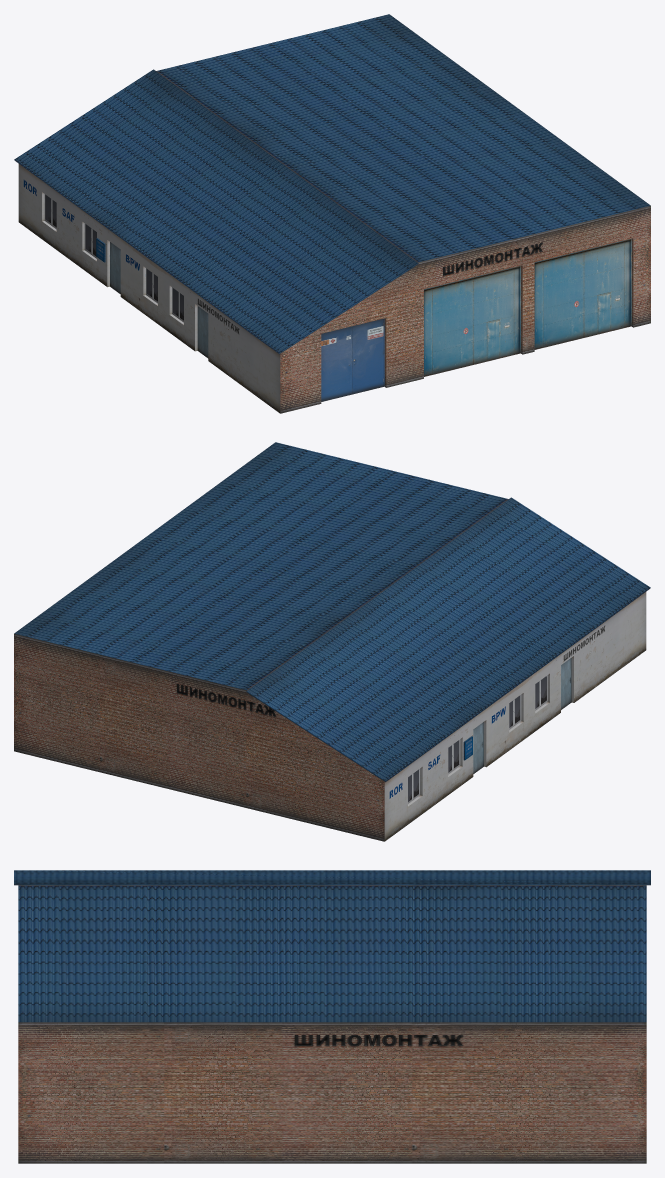
File: e30_shinomontaz2.FBX
3 renders of one model, top to bottom at view 1: azimuth 30°, elevation 25°; view 2: azimuth 150°, elevation 25°; view 3: azimuth 270°, elevation 25°, orthographic. The views are drawn at different scales.
Parts seen in each view (by area): view 1: e30_shinomontaz2; view 2: e30_shinomontaz2; view 3: e30_shinomontaz2.
Part boxes in pixels (x1,y1,x2,y2): e30_shinomontaz2: (14, 14, 650, 413); e30_shinomontaz2: (14, 442, 650, 841); e30_shinomontaz2: (14, 870, 650, 1163).
Bounding box in the file's own units: 18.14 × 22.3 × 5.49.
